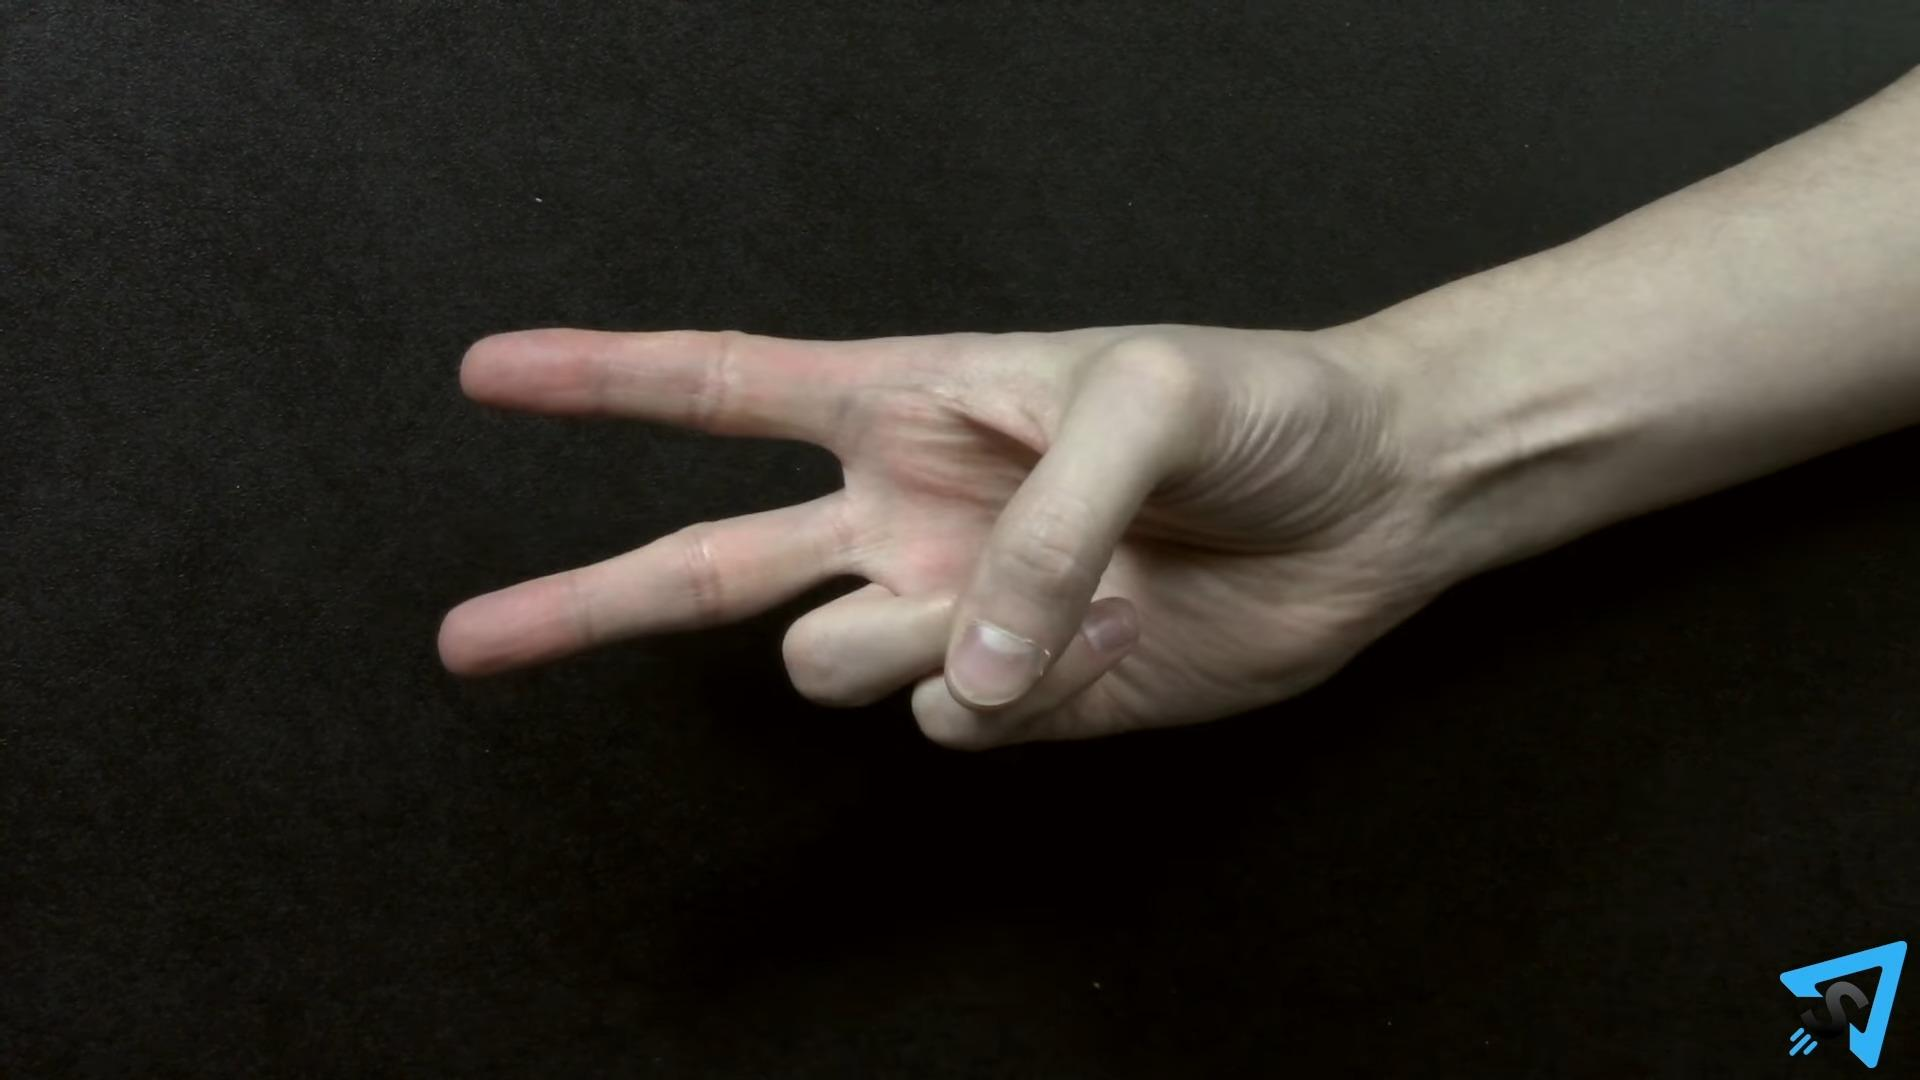Scissors: (435, 318, 1441, 754)
